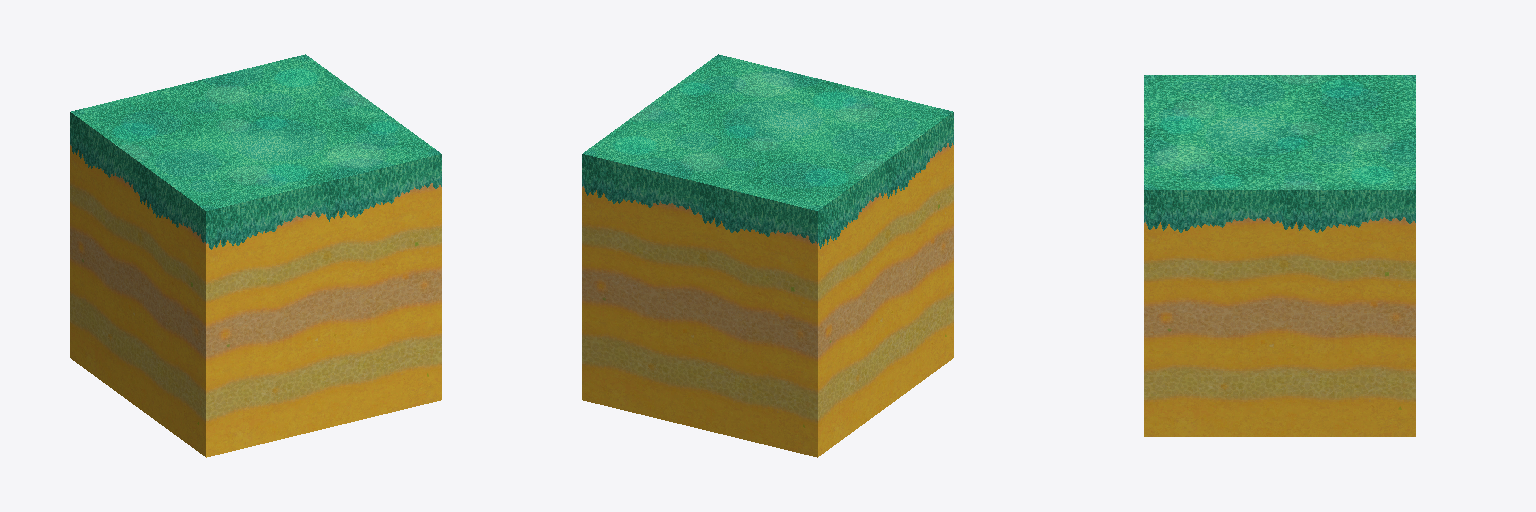
The picture shows the model from 3 angles: view 1: azimuth 30°, elevation 25°; view 2: azimuth 150°, elevation 25°; view 3: azimuth 270°, elevation 25°; orthographic projection.
Visible parts, largest first — view 1: Cube; view 2: Cube; view 3: Cube.
Boxes of the visible parts, x1,y1,x2,y2 form: Cube: [70, 54, 441, 457]; Cube: [582, 54, 953, 457]; Cube: [1144, 75, 1415, 436].
Size of the model in its own units: 1 by 1 by 1.
Materials: 1 (1 with a texture image).